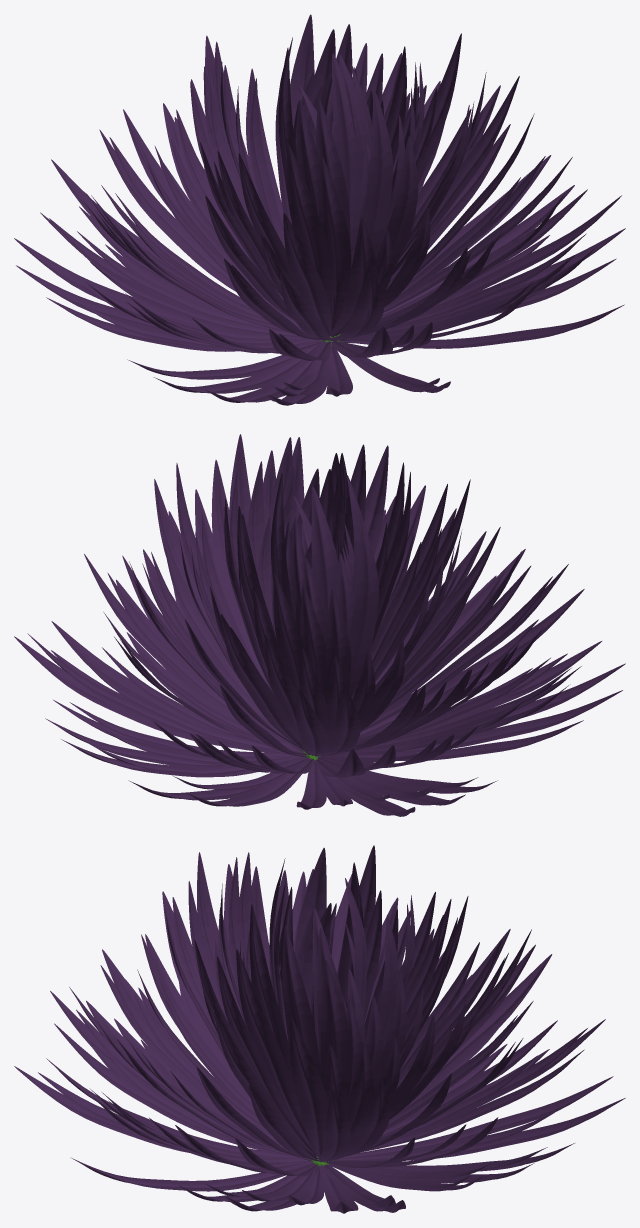
The model's file is unity.fbx.
The picture shows the model from 3 angles, top to bottom: view 1: azimuth 30°, elevation 25°; view 2: azimuth 150°, elevation 25°; view 3: azimuth 270°, elevation 25°; orthographic projection. The views are drawn at different scales.
Visible parts, largest first — view 1: 草堆.002|细草sample|Dupli|99, 草堆.002|细草sample|Dupli|113, 草堆.002|细草sample|Dupli|87, 草堆.002|细草sample|Dupli|109, 草堆.002|细草sample|Dupli|114, 草堆.002|细草sample|Dupli|174, 草堆.002|细草sample|Dupli|46, 草堆.002|细草sample|Dupli|90, 草堆.002|细草sample|Dupli|58, 草堆.002|细草sample|Dupli|74, 草堆.002|细草sample|Dupli|183, 草堆.002|细草sample|Dupli|100 (+78 smaller); view 2: 草堆.002|细草sample|Dupli|160, 草堆.002|细草sample|Dupli|188, 草堆.002|细草sample|Dupli|171, 草堆.002|细草sample|Dupli|56, 草堆.002|细草sample|Dupli|184, 草堆.002|细草sample|Dupli|36, 草堆.002|细草sample|Dupli|130, 草堆.002|细草sample|Dupli|37, 草堆.002|细草sample|Dupli|23, 草堆.002|细草sample|Dupli|177, 草堆.002|细草sample|Dupli|172, 草堆.002|细草sample|Dupli|114 (+92 smaller); view 3: 草堆.002|细草sample|Dupli|55, 草堆.002|细草sample|Dupli|46, 草堆.002|细草sample|Dupli|44, 草堆.002|细草sample|Dupli|54, 草堆.002|细草sample|Dupli|65, 草堆.002|细草sample|Dupli|64, 草堆.002|细草sample|Dupli|196, 草堆.002|细草sample|Dupli|176, 草堆.002|细草sample|Dupli|74, 草堆.002|细草sample|Dupli|56, 草堆.002|细草sample|Dupli|, 草堆.002|细草sample|Dupli|95 (+88 smaller).
Boxes of the visible parts, left/top/right/bottom form: 草堆.002|细草sample|Dupli|99: left=332, top=53, right=363, bottom=251; 草堆.002|细草sample|Dupli|113: left=287, top=144, right=333, bottom=328; 草堆.002|细草sample|Dupli|87: left=351, top=92, right=392, bottom=268; 草堆.002|细草sample|Dupli|109: left=318, top=157, right=351, bottom=314; 草堆.002|细草sample|Dupli|114: left=283, top=213, right=331, bottom=335; 草堆.002|细草sample|Dupli|174: left=109, top=137, right=295, bottom=322; 草堆.002|细草sample|Dupli|46: left=391, top=76, right=519, bottom=278; 草堆.002|细草sample|Dupli|90: left=375, top=136, right=418, bottom=266; 草堆.002|细草sample|Dupli|58: left=341, top=195, right=621, bottom=333; 草堆.002|细草sample|Dupli|74: left=343, top=304, right=624, bottom=348; 草堆.002|细草sample|Dupli|183: left=249, top=78, right=285, bottom=248; 草堆.002|细草sample|Dupli|100: left=330, top=218, right=376, bottom=337; 草堆.002|细草sample|Dupli|160: left=348, top=520, right=378, bottom=696; 草堆.002|细草sample|Dupli|188: left=220, top=614, right=309, bottom=754; 草堆.002|细草sample|Dupli|171: left=311, top=486, right=338, bottom=625; 草堆.002|细草sample|Dupli|56: left=211, top=460, right=268, bottom=684; 草堆.002|细草sample|Dupli|184: left=273, top=573, right=308, bottom=690; 草堆.002|细草sample|Dupli|36: left=107, top=573, right=289, bottom=744; 草堆.002|细草sample|Dupli|130: left=371, top=690, right=622, bottom=754; 草堆.002|细草sample|Dupli|37: left=163, top=539, right=253, bottom=701; 草堆.002|细草sample|Dupli|23: left=27, top=633, right=295, bottom=754; 草堆.002|细草sample|Dupli|177: left=300, top=585, right=330, bottom=700; 草堆.002|细草sample|Dupli|172: left=323, top=588, right=351, bottom=690; 草堆.002|细草sample|Dupli|114: left=374, top=527, right=500, bottom=693; 草堆.002|细草sample|Dupli|55: left=236, top=949, right=313, bottom=1149; 草堆.002|细草sample|Dupli|46: left=289, top=1018, right=328, bottom=1157; 草堆.002|细草sample|Dupli|44: left=320, top=960, right=352, bottom=1098; 草堆.002|细草sample|Dupli|54: left=282, top=925, right=320, bottom=1077; 草堆.002|细草sample|Dupli|65: left=217, top=956, right=316, bottom=1156; 草堆.002|细草sample|Dupli|64: left=249, top=904, right=295, bottom=1090; 草堆.002|细草sample|Dupli|196: left=335, top=1076, right=613, bottom=1159; 草堆.002|细草sample|Dupli|176: left=403, top=954, right=552, bottom=1109; 草堆.002|细草sample|Dupli|74: left=70, top=1157, right=285, bottom=1191; 草堆.002|细草sample|Dupli|56: left=214, top=1009, right=317, bottom=1158; 草堆.002|细草sample|Dupli|: left=360, top=1049, right=584, bottom=1152; 草堆.002|细草sample|Dupli|95: left=54, top=1023, right=271, bottom=1152.
Size of the model in its own units: 7.78 by 4.36 by 8.06.
